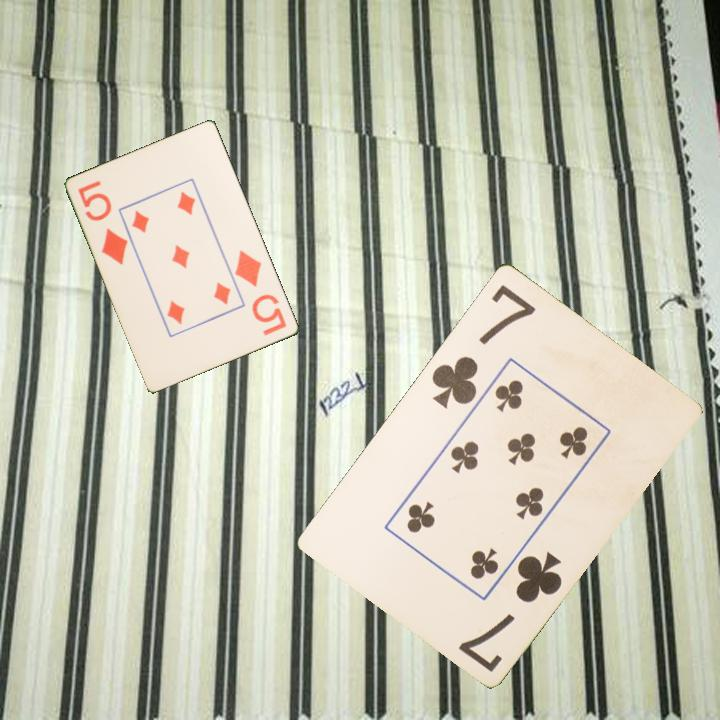5d: (232, 246, 290, 339), (75, 177, 131, 268)
7c: (427, 280, 539, 411), (454, 547, 565, 675)
